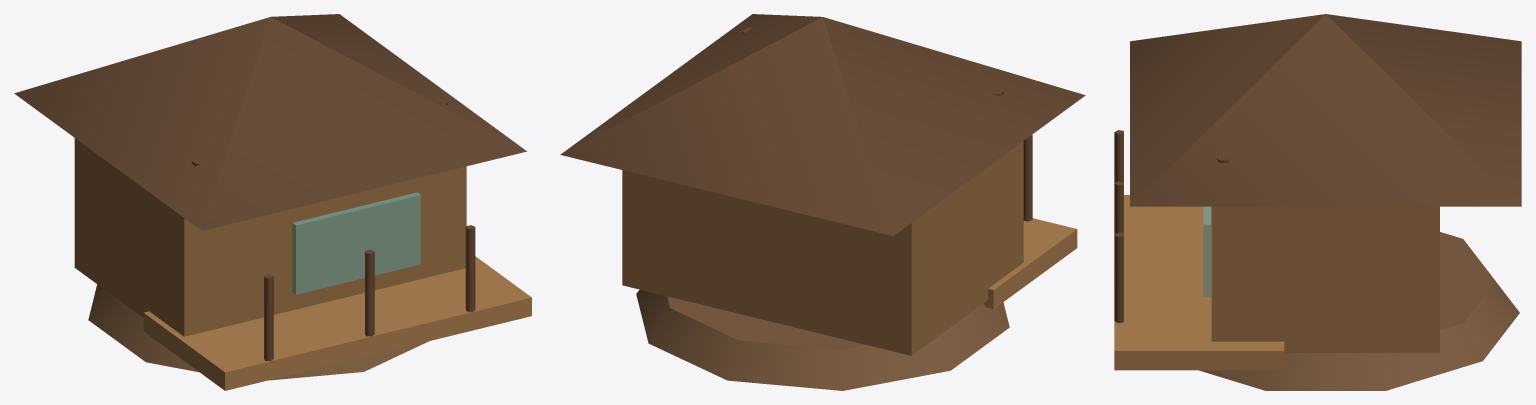
File: terrace-manor.glb
3 views of the same model, side by side, from view 1: azimuth 30°, elevation 25°; view 2: azimuth 150°, elevation 25°; view 3: azimuth 270°, elevation 25° (orthographic). The views are drawn at different scales.
Parts seen in each view (by area): view 1: terrace-manor; view 2: terrace-manor; view 3: terrace-manor.
Boxes of the visible parts, x1,y1,x2,y2 form: terrace-manor: (14, 14, 531, 390); terrace-manor: (560, 14, 1085, 390); terrace-manor: (1114, 14, 1521, 390).
Bounding box in the file's own units: 4.03 × 3.4 × 4.19.
